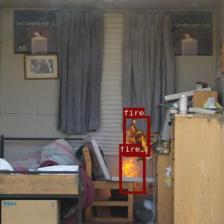fire: (123, 116, 150, 156), (119, 152, 145, 193)
